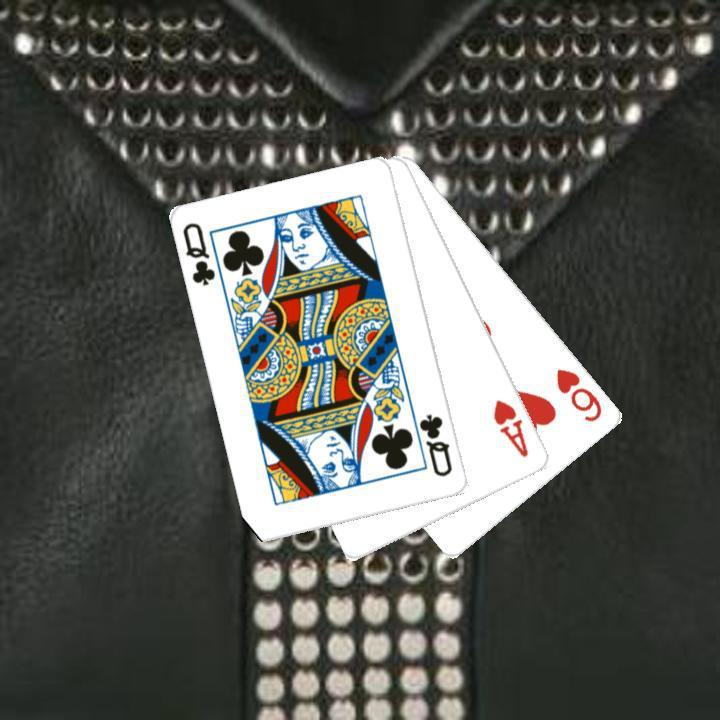6: (552, 364, 605, 424)
A: (489, 395, 531, 460)
Q: (415, 410, 455, 479), (179, 218, 218, 288)
